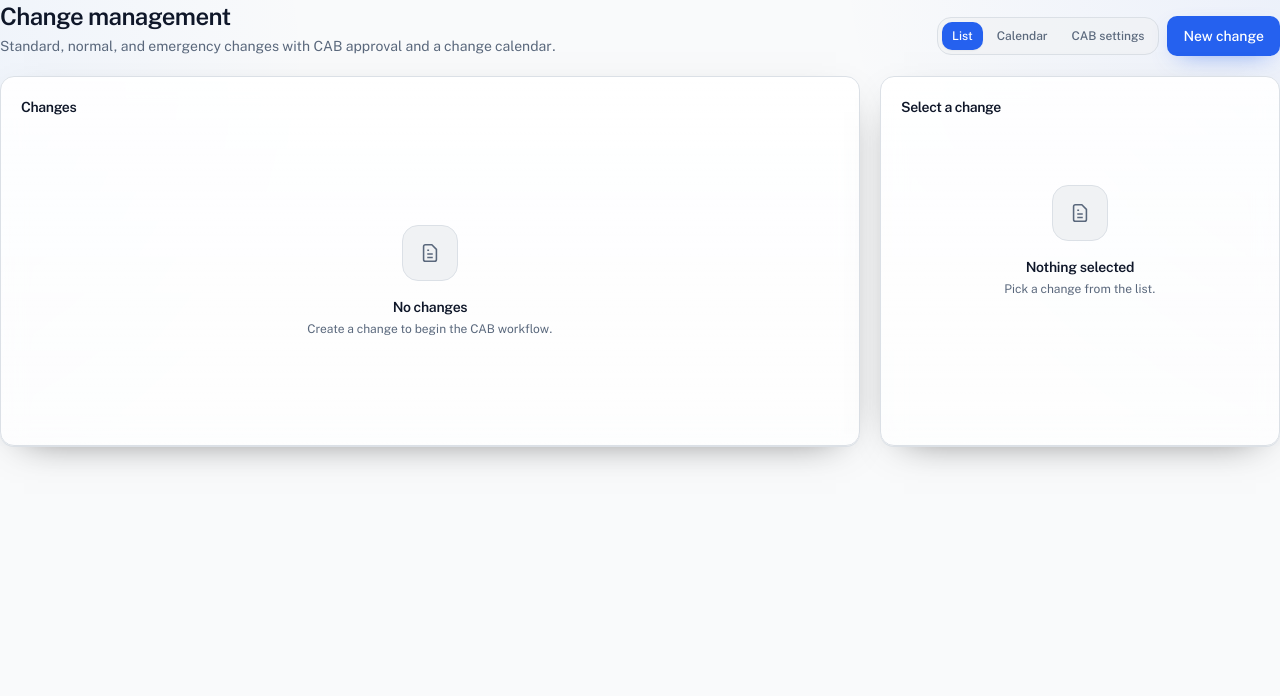
it: ChangesPage › keeps the New change action out of the settings tab
Expected: the button "New change" is shown, [1168,16,1279,56]
Click the tab "CAB settings" at (1108, 36), box [1062,22,1154,50]
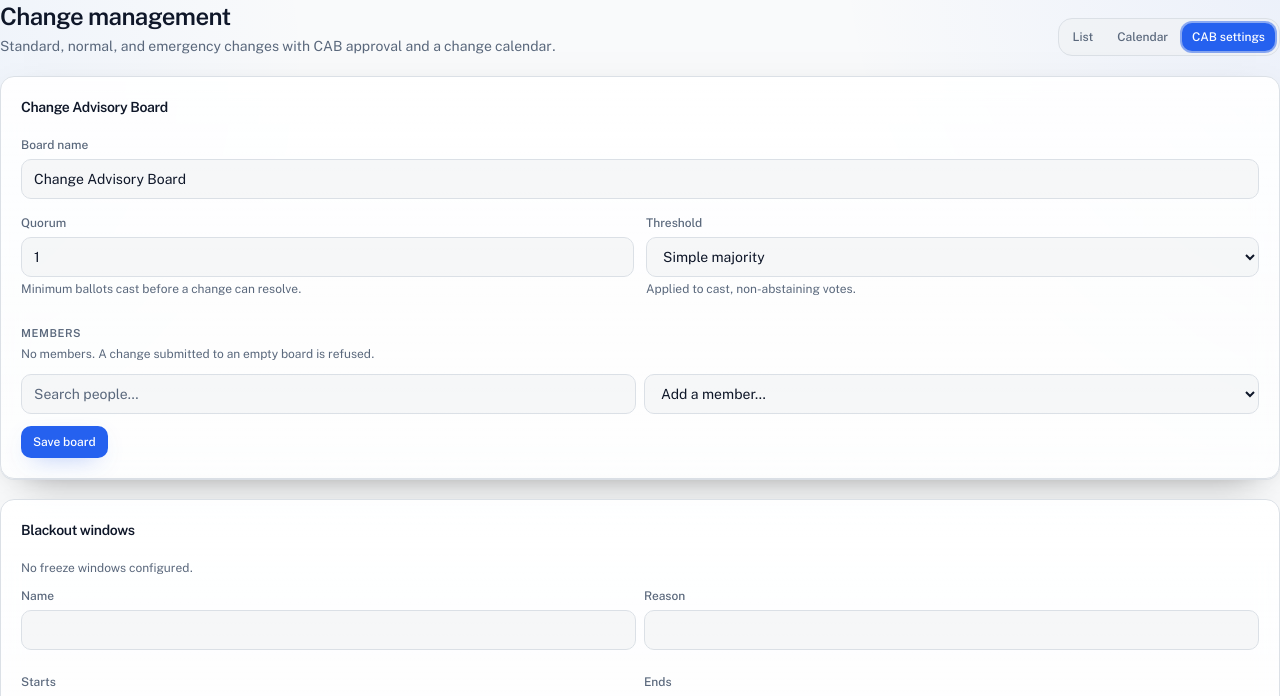
Now the button "New change" is gone
